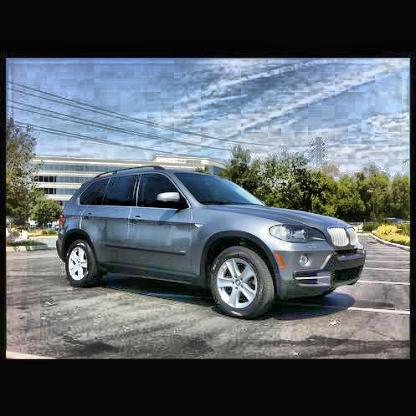BMW X5 SUV 2007: (55, 166, 368, 327)
